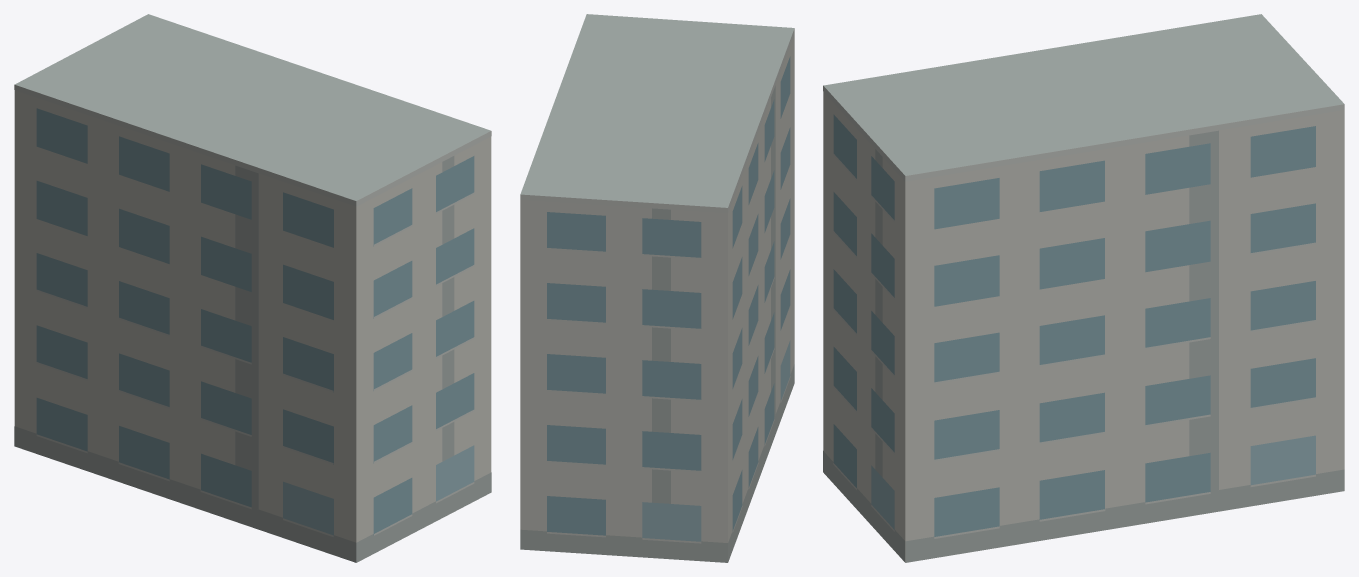
Rendered from survey-upis-32826808.glb.
3 renders of one model, left to right at view 1: azimuth 30°, elevation 25°; view 2: azimuth 150°, elevation 25°; view 3: azimuth 270°, elevation 25°, orthographic. The views are drawn at different scales.
Parts seen in each view (by area): view 1: survey-upis-32826808.tmp; view 2: survey-upis-32826808.tmp; view 3: survey-upis-32826808.tmp.
Part boxes in pixels (<box>): survey-upis-32826808.tmp: <box>14,14,491,562</box>; survey-upis-32826808.tmp: <box>520,14,794,562</box>; survey-upis-32826808.tmp: <box>823,14,1344,562</box>.
Bounding box in the file's own units: 14.38 × 16 × 19.56.
